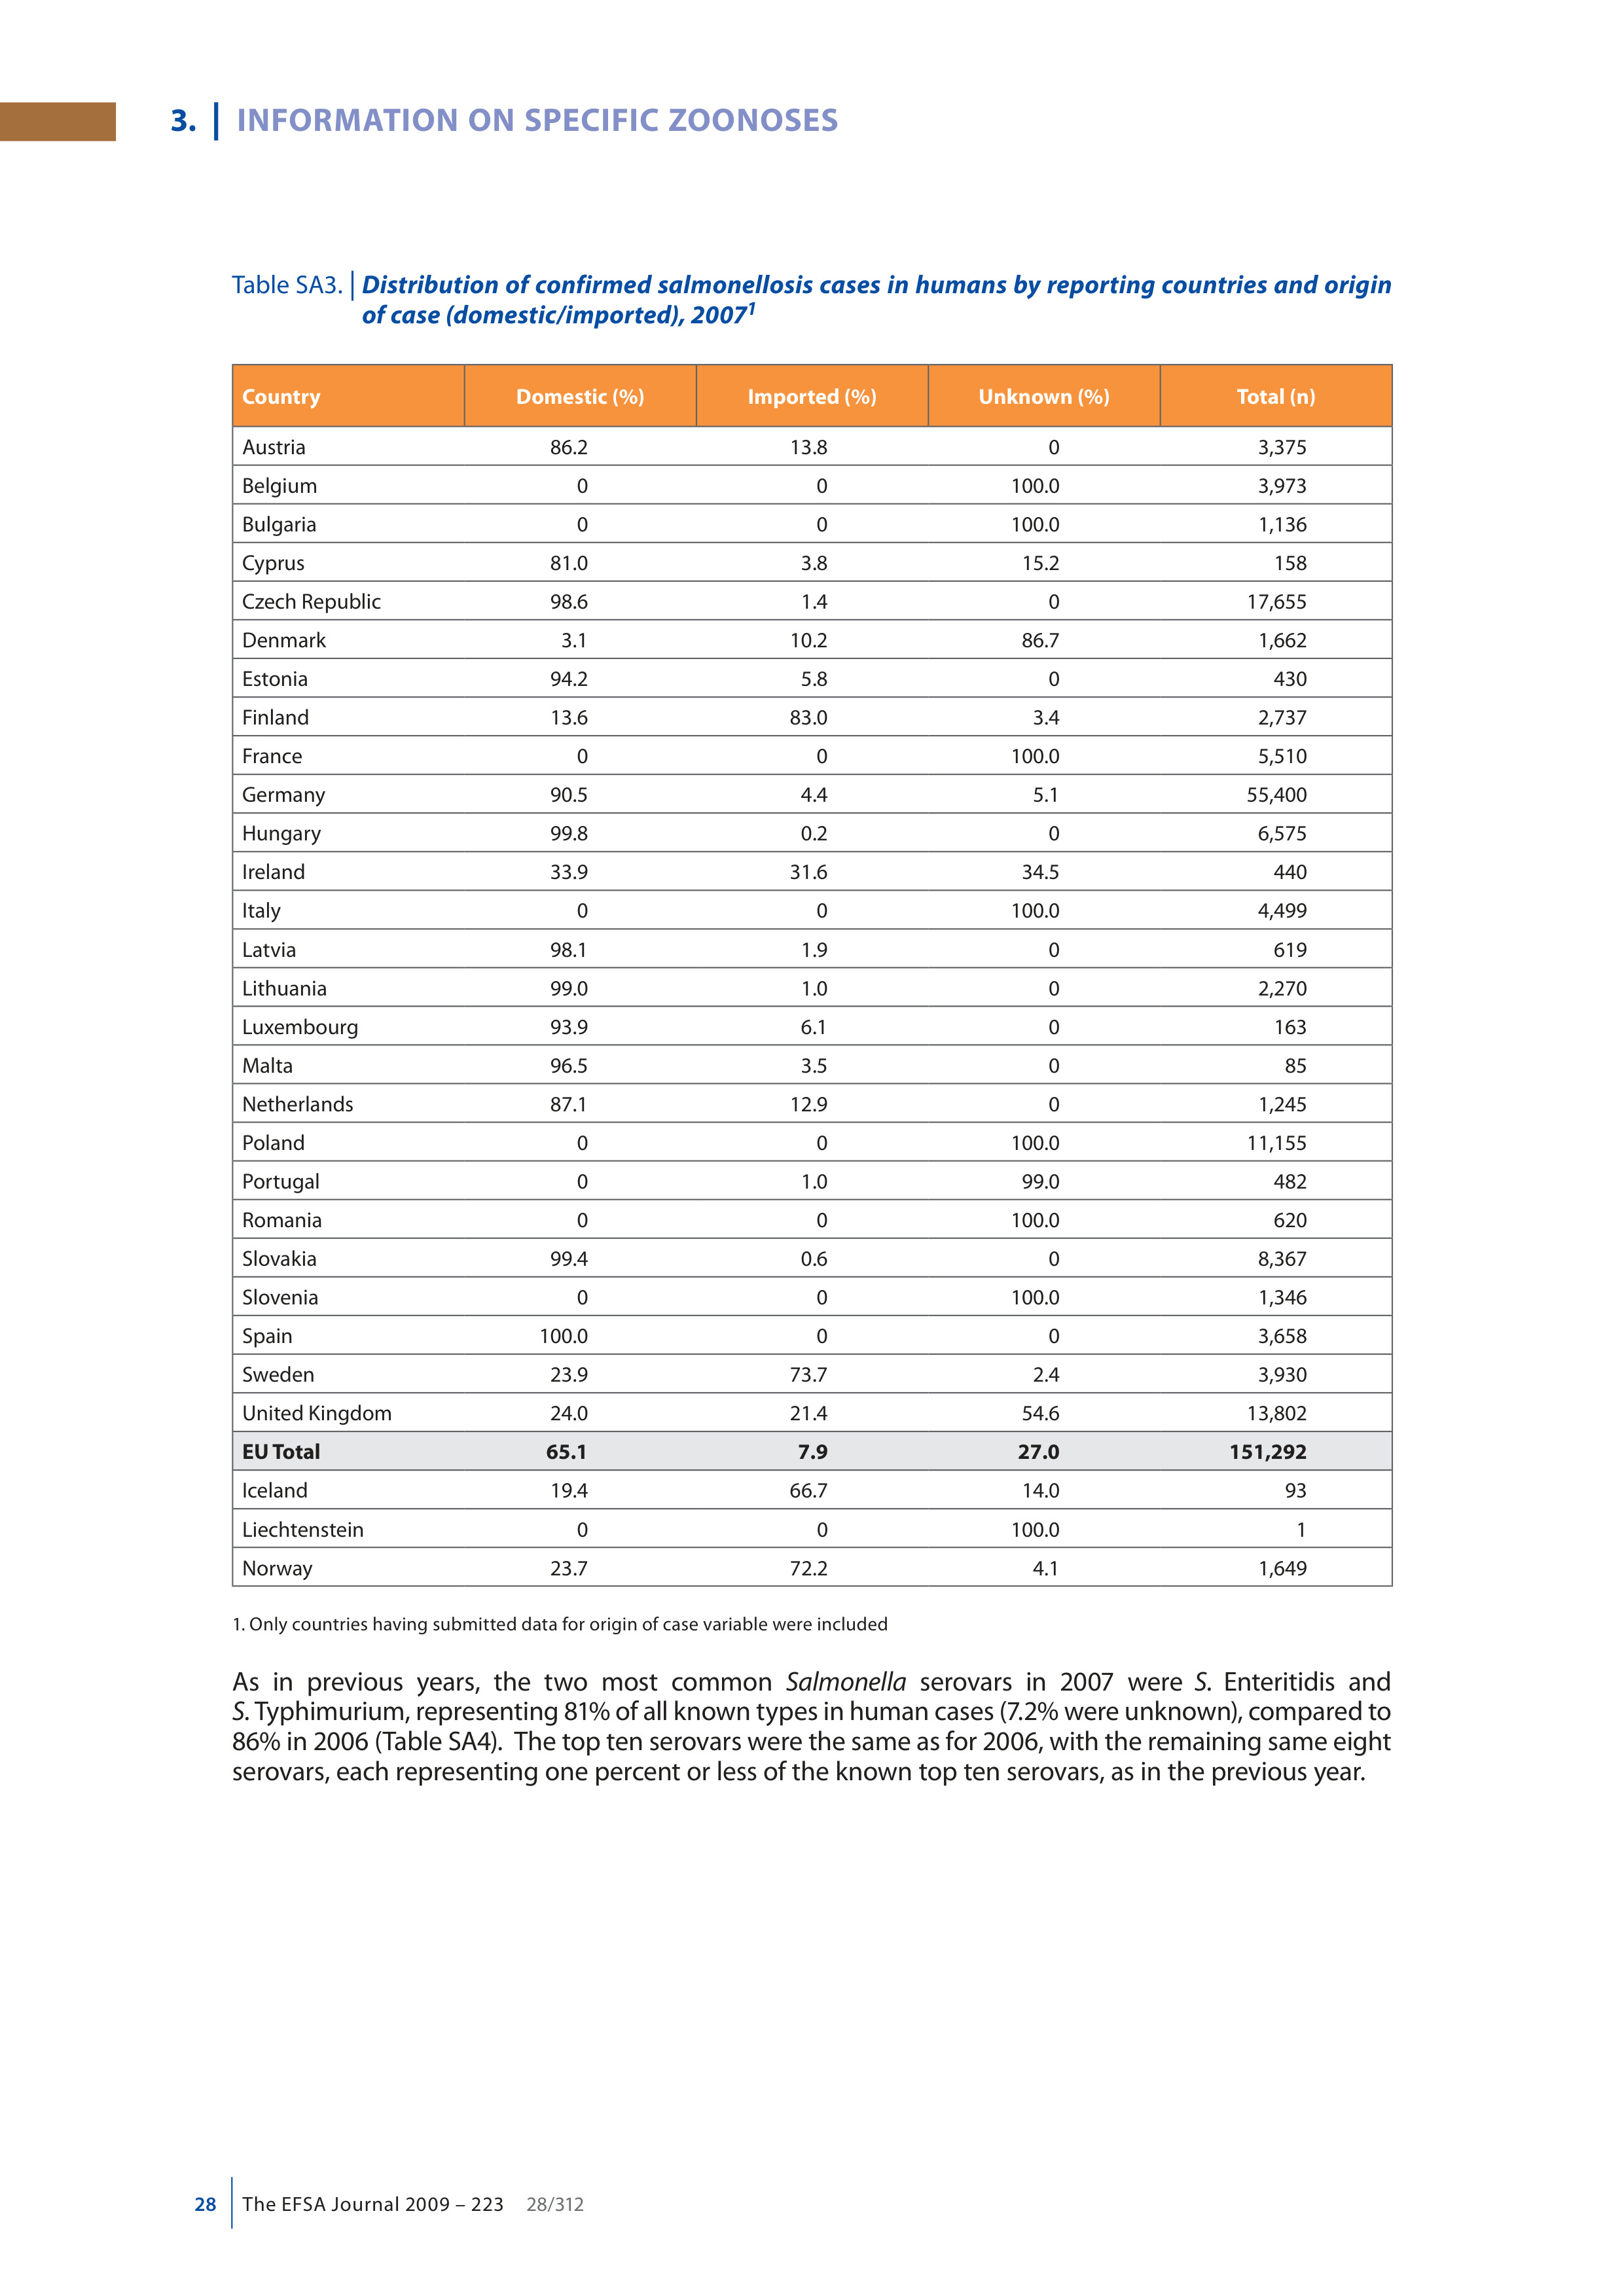table: (243, 381, 1316, 1579)
